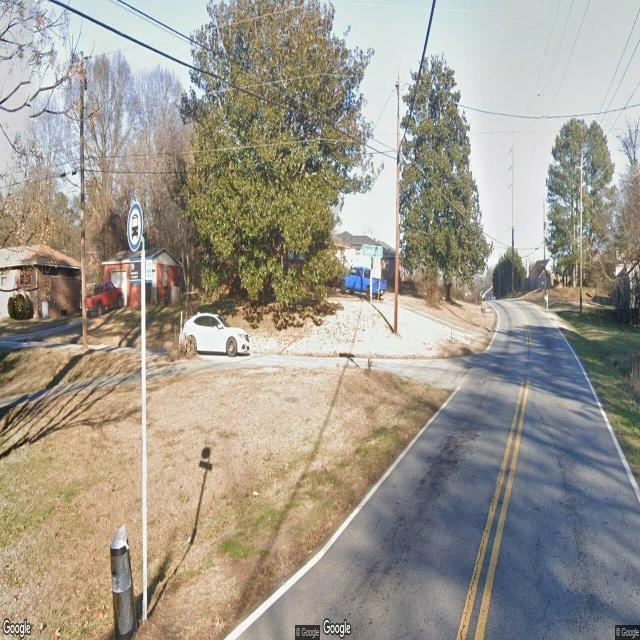trash_can: (108, 521, 139, 640)
